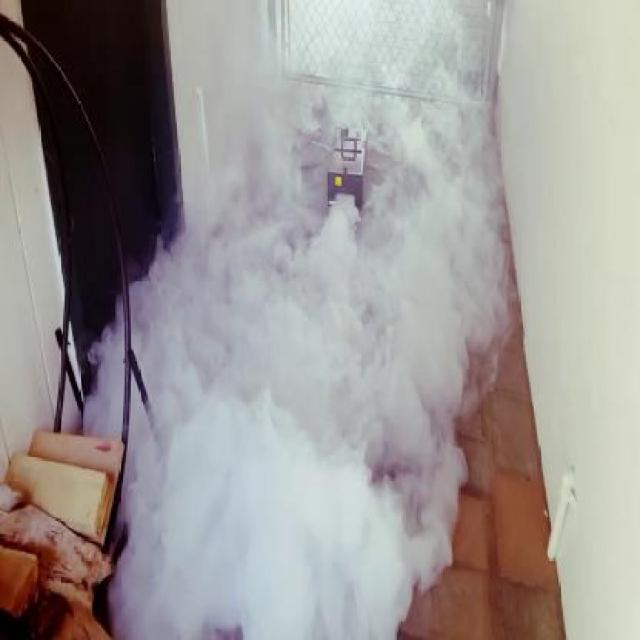smoke: (121, 188, 462, 634), (214, 4, 496, 520)
